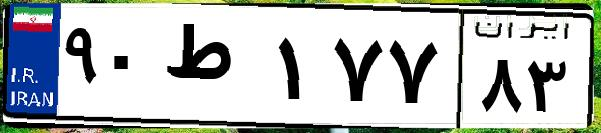0: (110, 28, 158, 98)
1: (270, 28, 330, 110)
3: (525, 38, 570, 115)
7: (385, 28, 445, 110), (330, 28, 385, 110)
8: (475, 38, 525, 113)
9: (57, 26, 110, 100)
ط: (158, 20, 270, 120)
